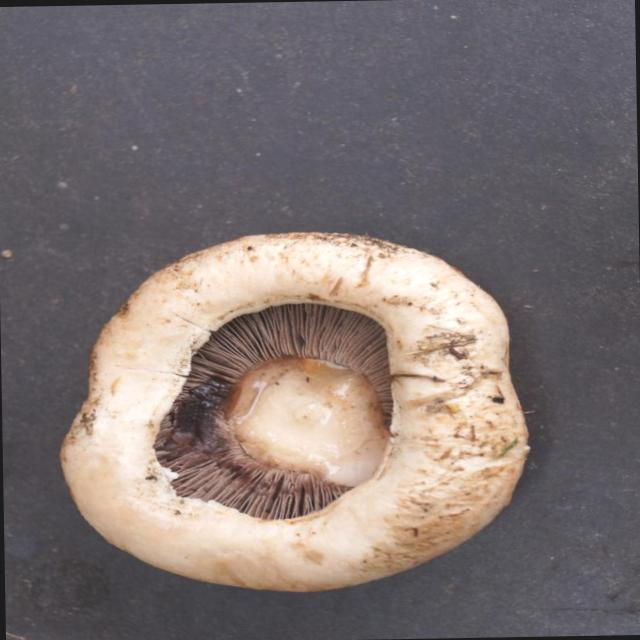Agaricus bisporus: (54, 225, 538, 594)
